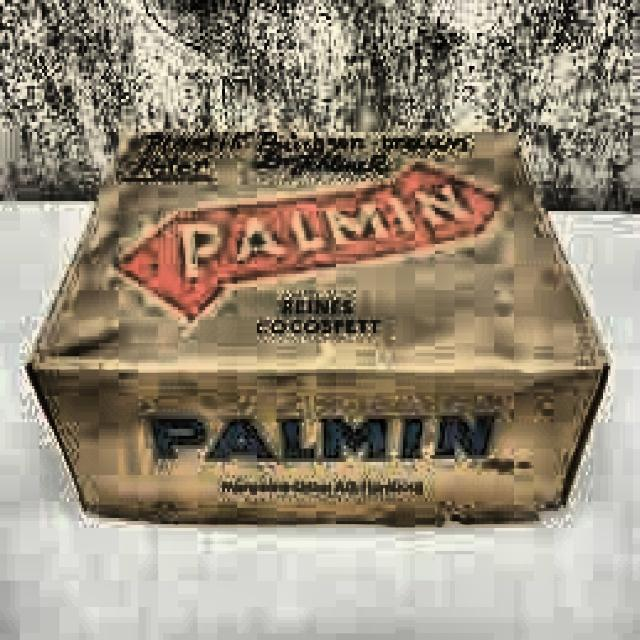Cardbox: (22, 107, 615, 545)
